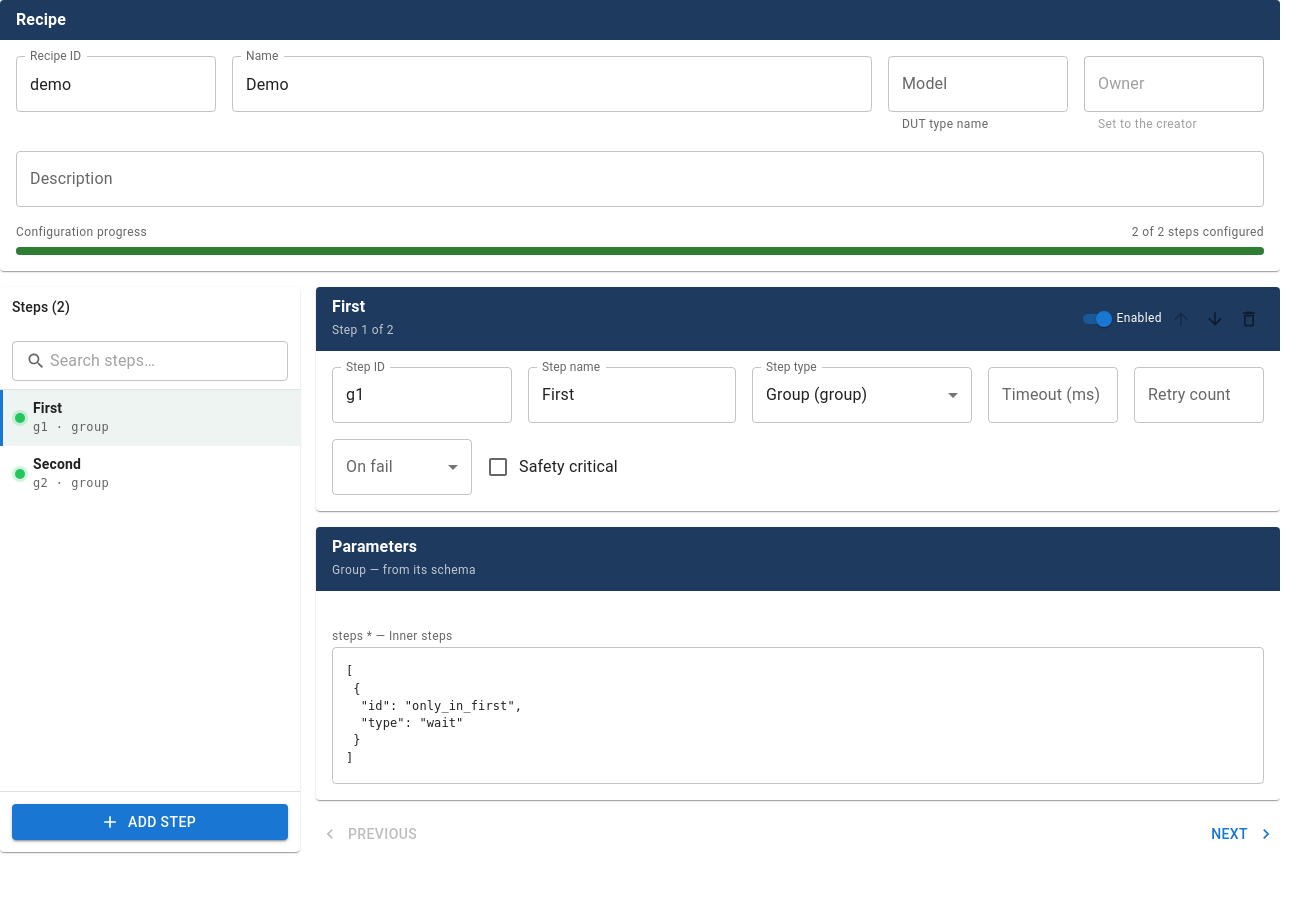
Scenario: RecipeForm group steps › shows the inner steps of the selected group, not of the first one
The width and height of the screenshot is (1292, 900).
expect the text box showing "only_in_first" is shown: met, box [346,663,1250,767]
Click the text "Second" at point(57, 464), box [33,456,81,472]
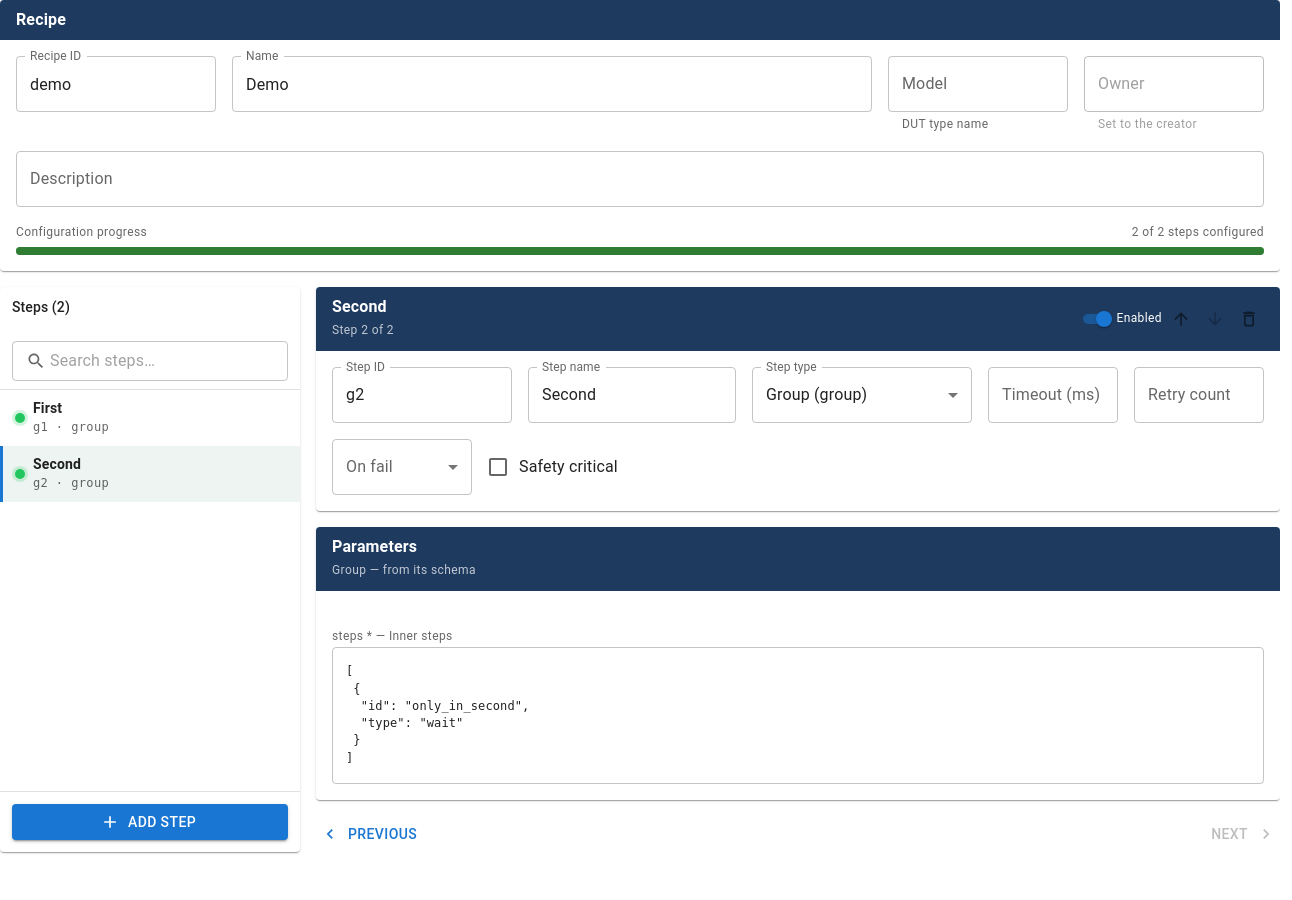
expect the field showing "only_in_first" is not shown: met
expect the text box showing "only_in_second" is shown: met, box [346,663,1250,767]
